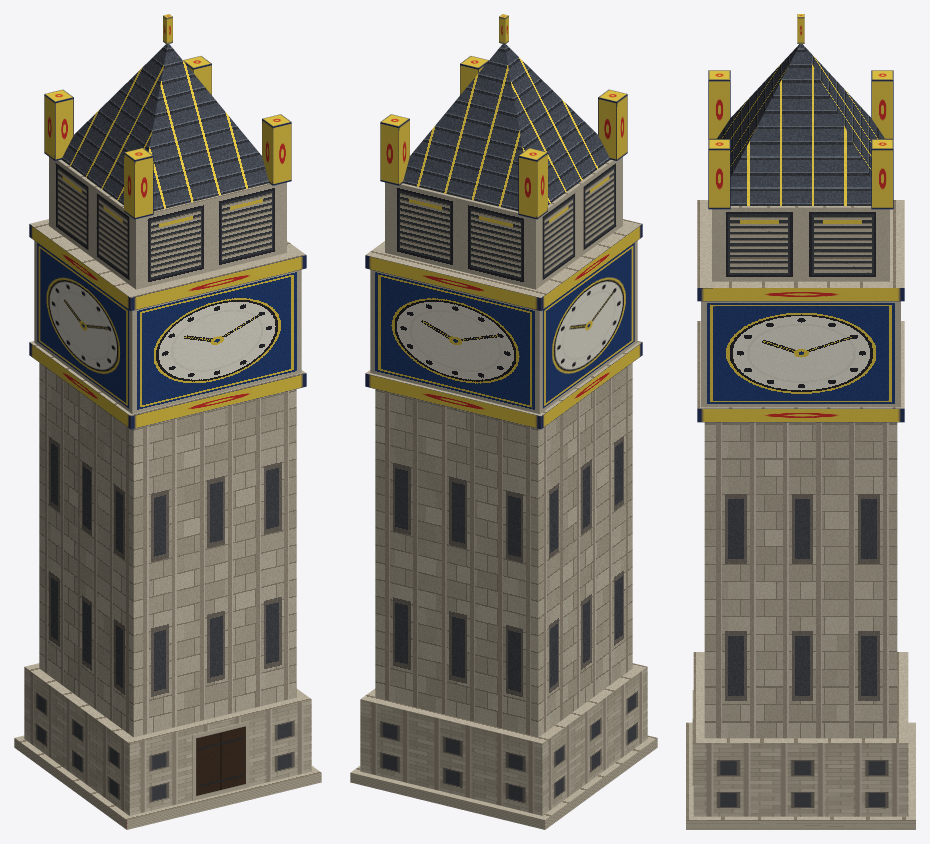
File: landmark_big_ben.glb
3 views of the same model, side by side, from view 1: azimuth 30°, elevation 25°; view 2: azimuth 150°, elevation 25°; view 3: azimuth 270°, elevation 25° (orthographic). The views are drawn at different scales.
Parts seen in each view (by area): view 1: Landmark_Big_Ben; view 2: Landmark_Big_Ben; view 3: Landmark_Big_Ben.
Boxes of the visible parts, x1,y1,x2,y2 form: Landmark_Big_Ben: [14, 14, 321, 829]; Landmark_Big_Ben: [350, 14, 657, 829]; Landmark_Big_Ben: [686, 14, 915, 829].
Size of the model in its own units: 6.2 by 22.8 by 6.2.
1 material, 1 textured.
